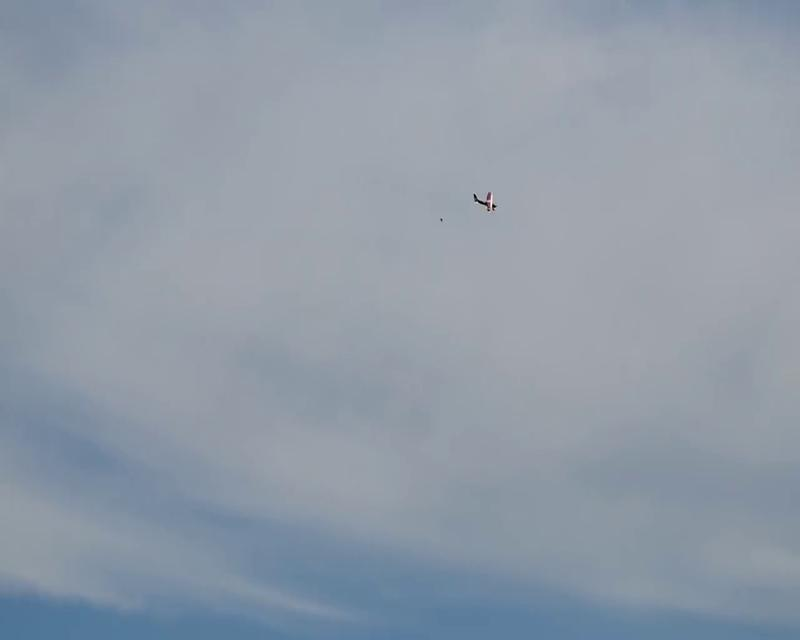UAV: (474, 192, 497, 212)
